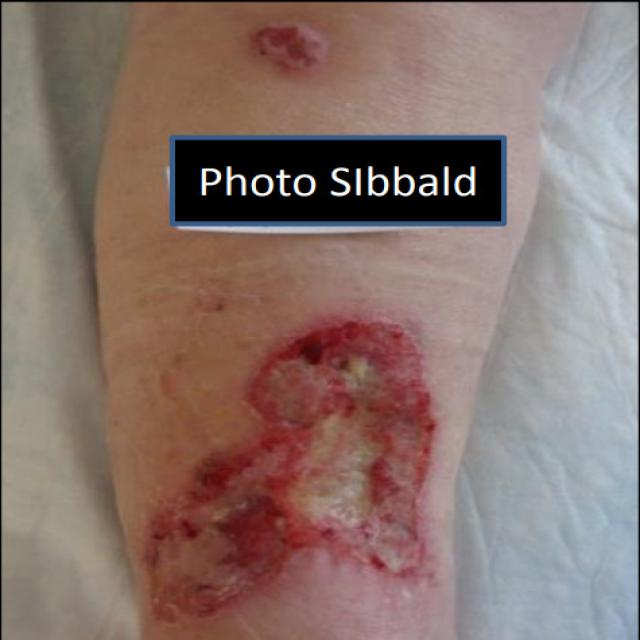stage-2: (255, 25, 328, 71)
stage-4: (147, 321, 435, 619)
